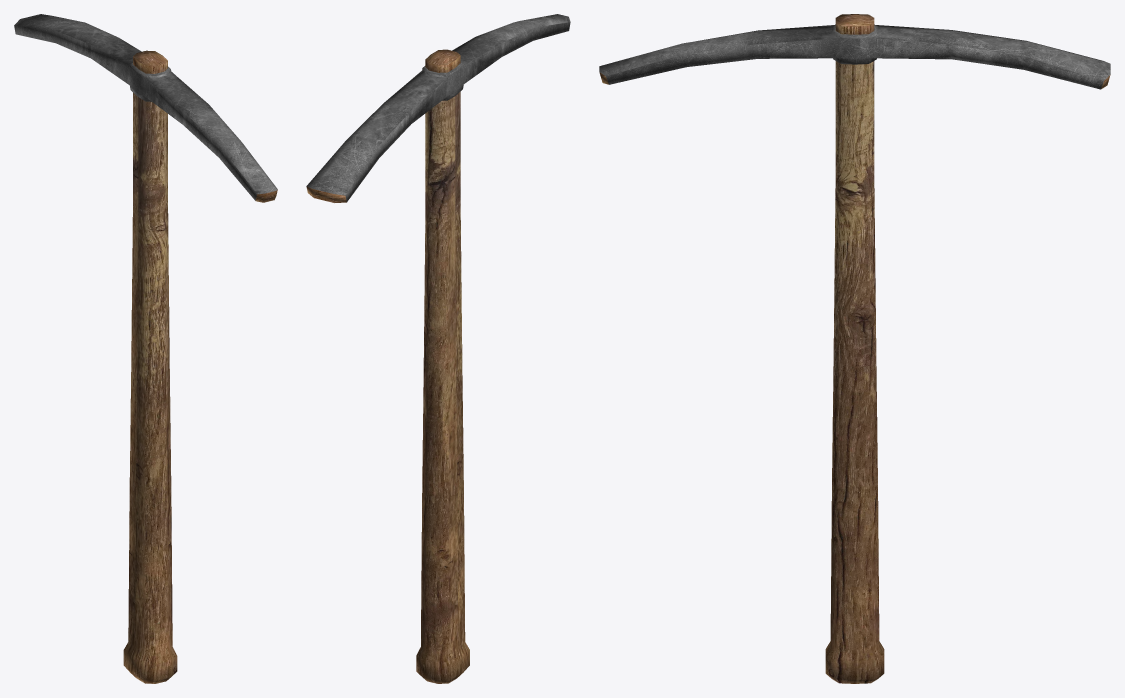
3 renders of one model, left to right at view 1: azimuth 30°, elevation 25°; view 2: azimuth 150°, elevation 25°; view 3: azimuth 270°, elevation 25°, orthographic. The views are drawn at different scales.
Parts seen in each view (by area): view 1: pickaxe; view 2: pickaxe; view 3: pickaxe.
Boxes of the visible parts, box(x1,y1,x2,y2) form: pickaxe: box(14, 14, 277, 683); pickaxe: box(306, 14, 570, 683); pickaxe: box(599, 14, 1110, 683).
Bounding box in the file's own units: 0.6954 × 10.59 × 7.42.
